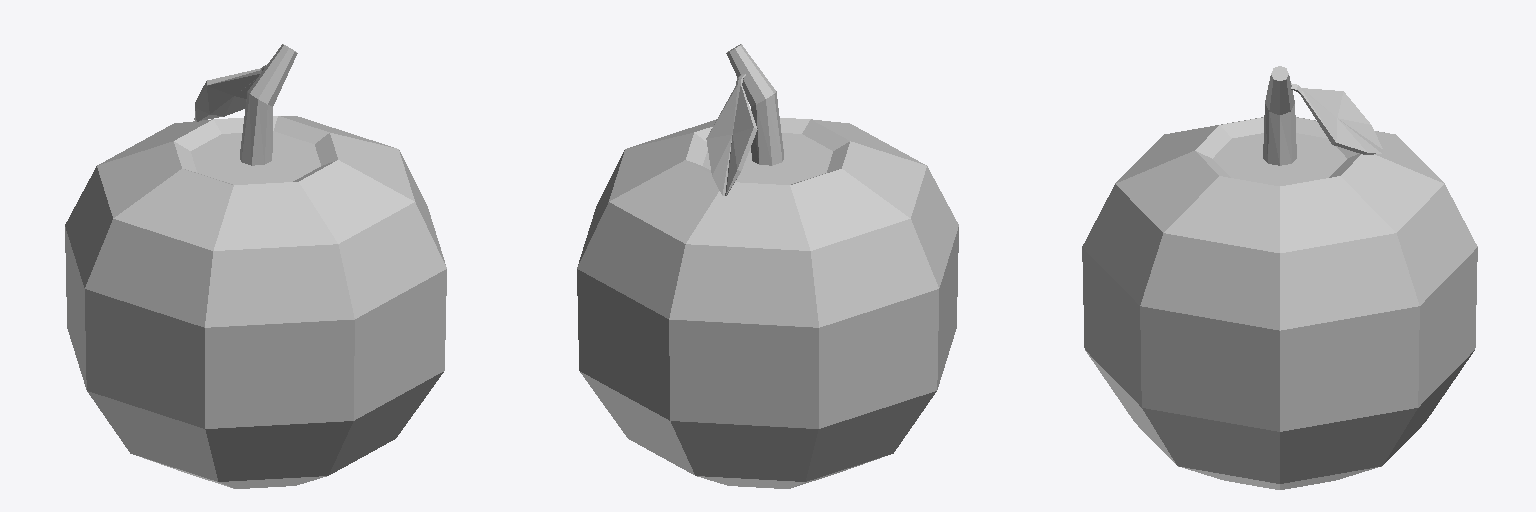
File: apple.obj
The picture shows the model from 3 angles: view 1: azimuth 30°, elevation 25°; view 2: azimuth 150°, elevation 25°; view 3: azimuth 270°, elevation 25°; orthographic projection.
Parts seen in each view (by area): view 1: apple_Cylinder; view 2: apple_Cylinder; view 3: apple_Cylinder.
Part boxes in pixels (bbox=[...]): apple_Cylinder: bbox=[65, 44, 446, 488]; apple_Cylinder: bbox=[577, 44, 958, 488]; apple_Cylinder: bbox=[1082, 66, 1477, 489].
Bounding box in the file's own units: 0.9861 × 1.12 × 0.9861.